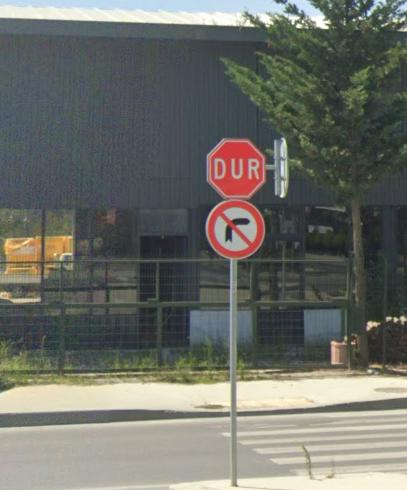rightturnsareforbidden: (208, 200, 266, 256)
stop: (202, 140, 265, 197)
